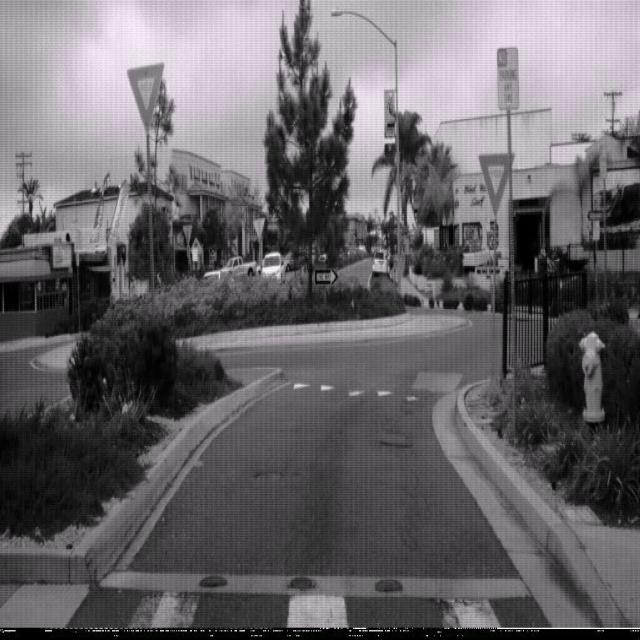yield: (126, 58, 165, 134), (478, 151, 516, 216)
